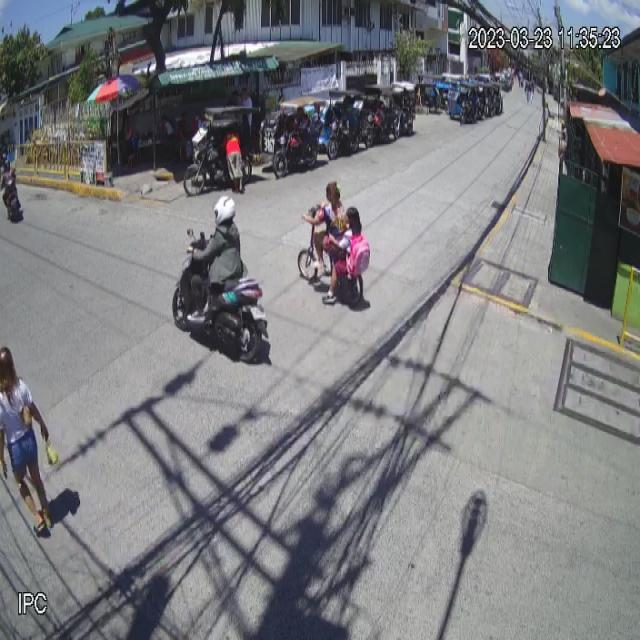Motorcycle: (171, 228, 270, 364)
